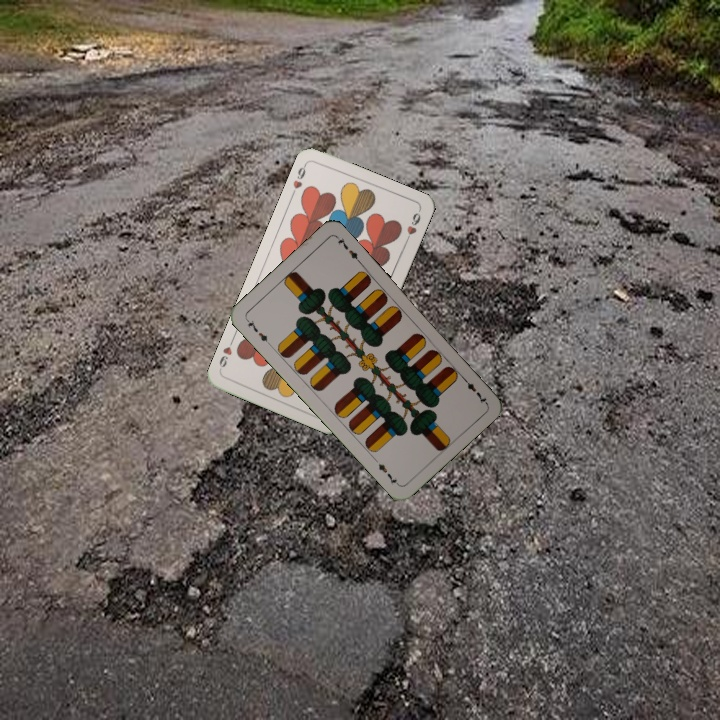E7: (242, 315, 274, 348), (458, 373, 489, 407)
H9: (289, 159, 309, 191)
